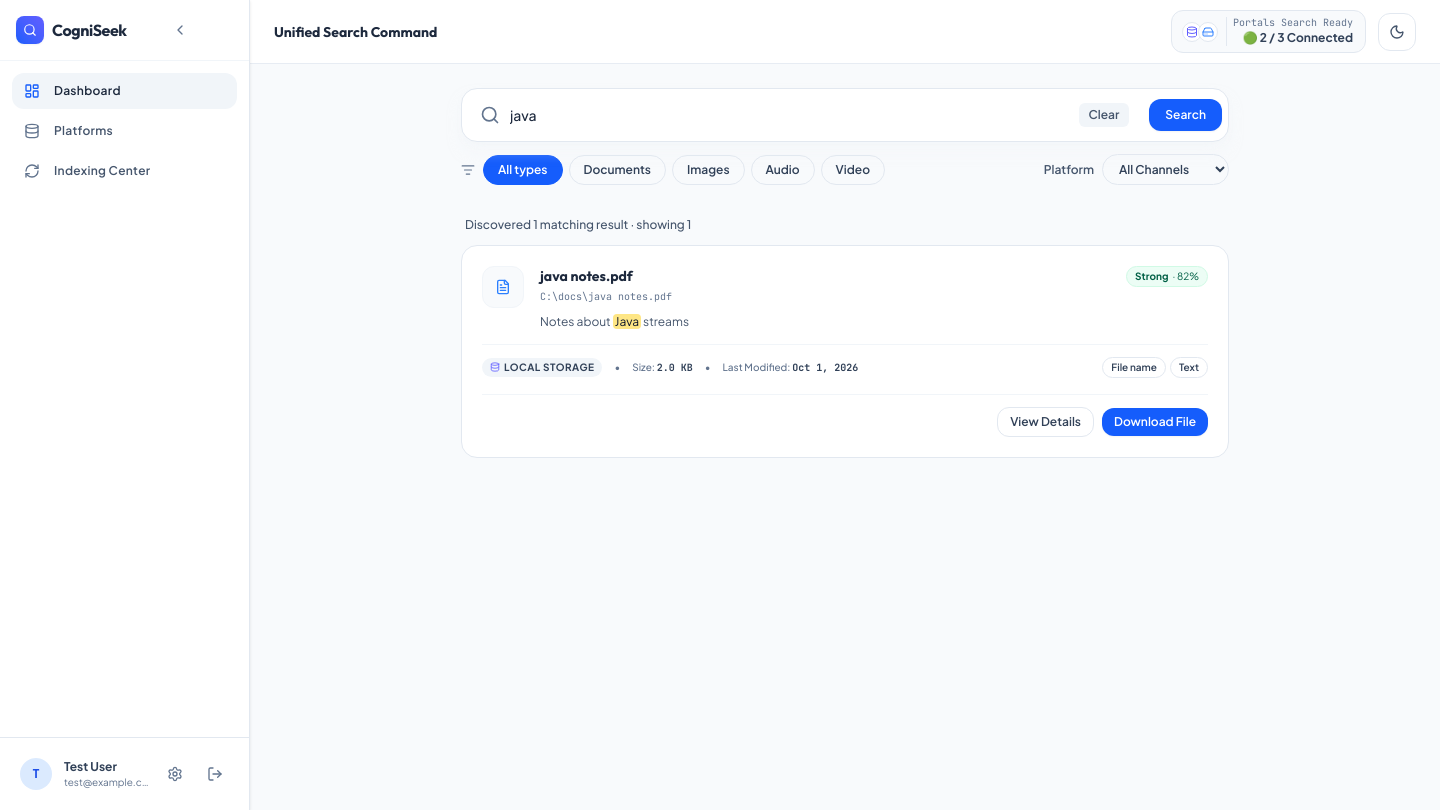
open a result › shows open errors in a toast
The image size is (1440, 810).
Click the button with aria-label "Download java notes.pdf".
click(1155, 422)  # box x1=1102 y1=408 x2=1208 y2=436
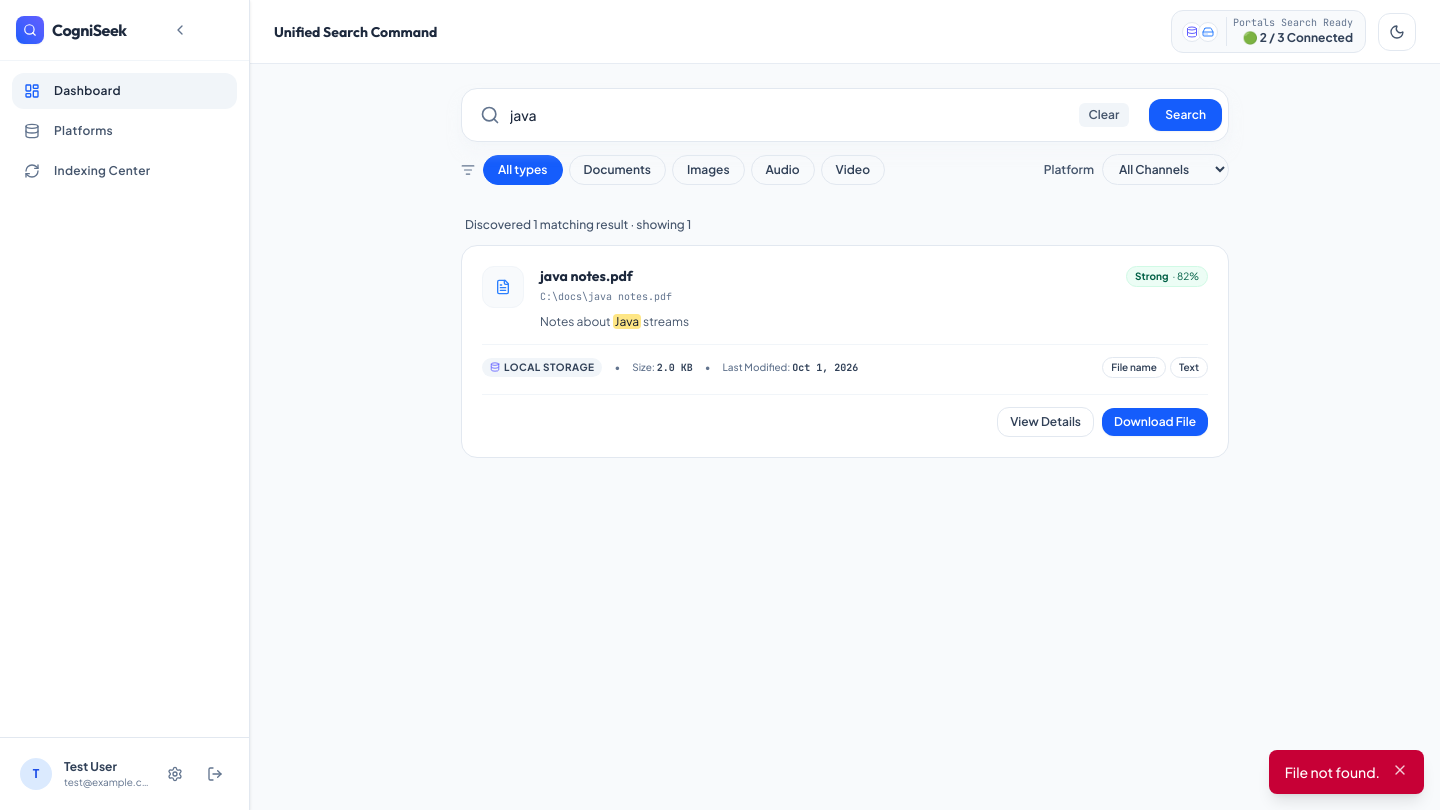
Now the message reads "File not found.", box x1=1285 y1=763 x2=1380 y2=781
